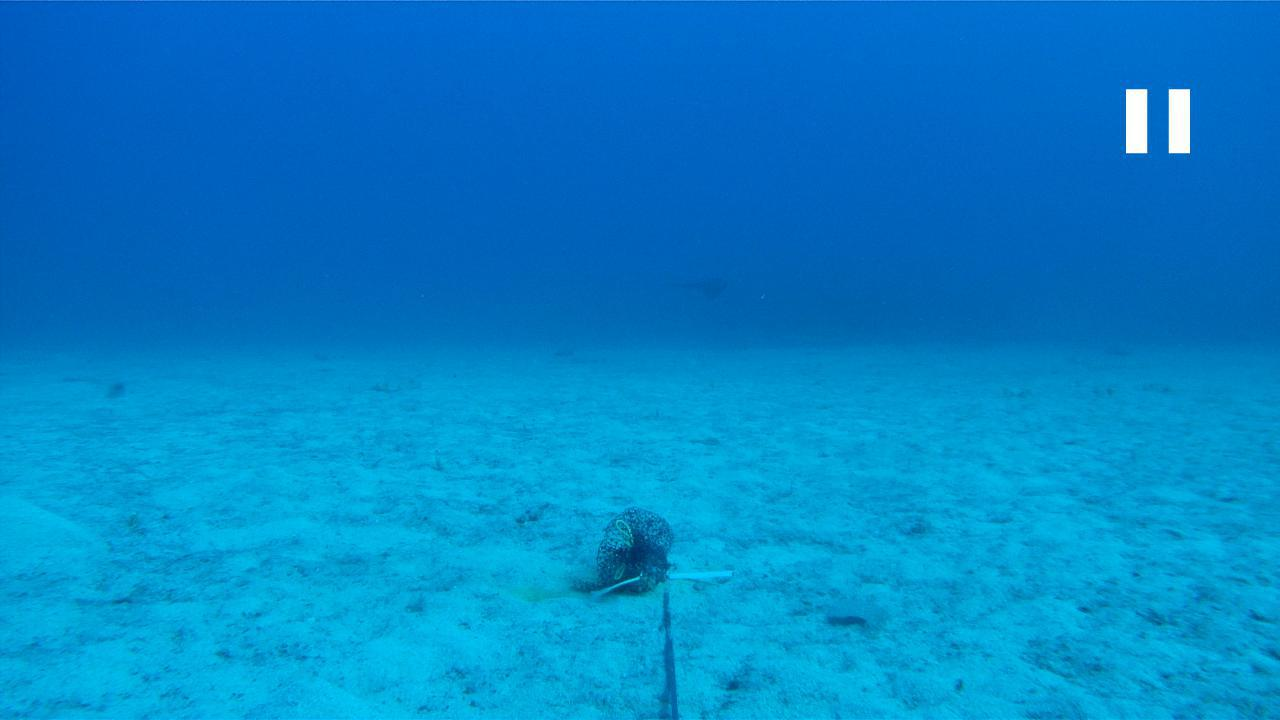bothus: (823, 596, 896, 634)
